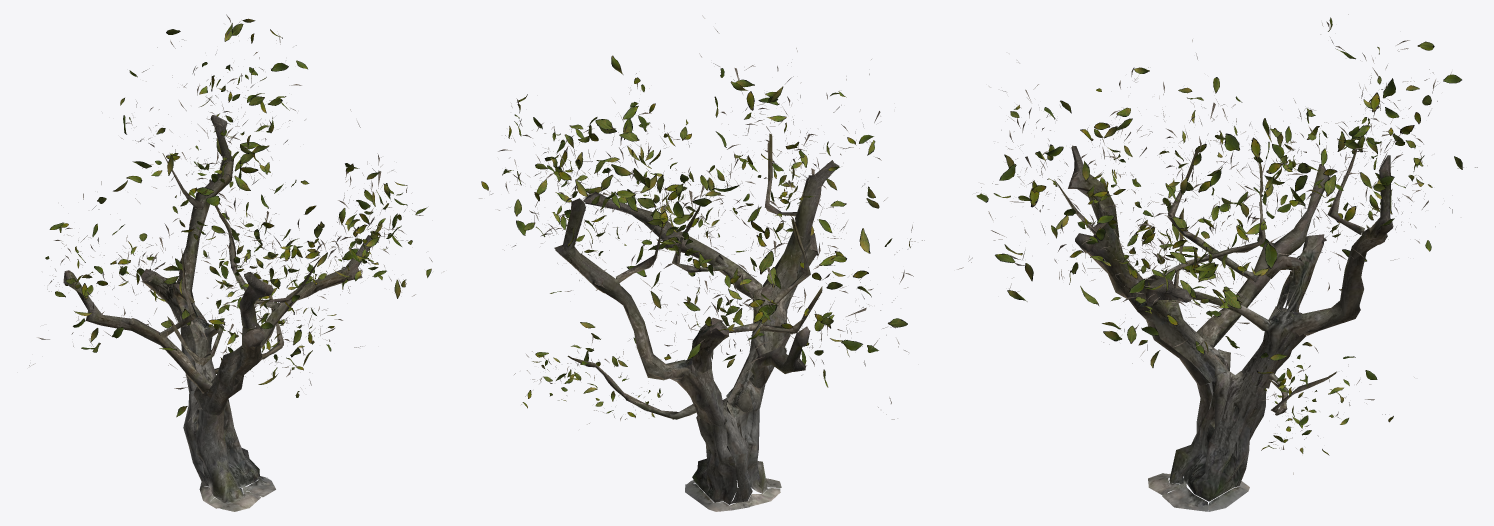
File: island_tree_01.glb
The picture shows the model from 3 angles, left to right: view 1: azimuth 30°, elevation 25°; view 2: azimuth 150°, elevation 25°; view 3: azimuth 270°, elevation 25°; orthographic projection. The views are drawn at different scales.
Visible parts, largest first — view 1: island_tree_01_LOD0; view 2: island_tree_01_LOD0; view 3: island_tree_01_LOD0.
Boxes of the visible parts, <box> form: island_tree_01_LOD0: <box>29,14,444,511</box>; island_tree_01_LOD0: <box>479,15,924,511</box>; island_tree_01_LOD0: <box>957,14,1477,511</box>.
Bounding box in the file's own units: 4.49 × 4.89 × 4.6.
Materials: 3 (3 with a texture image).
